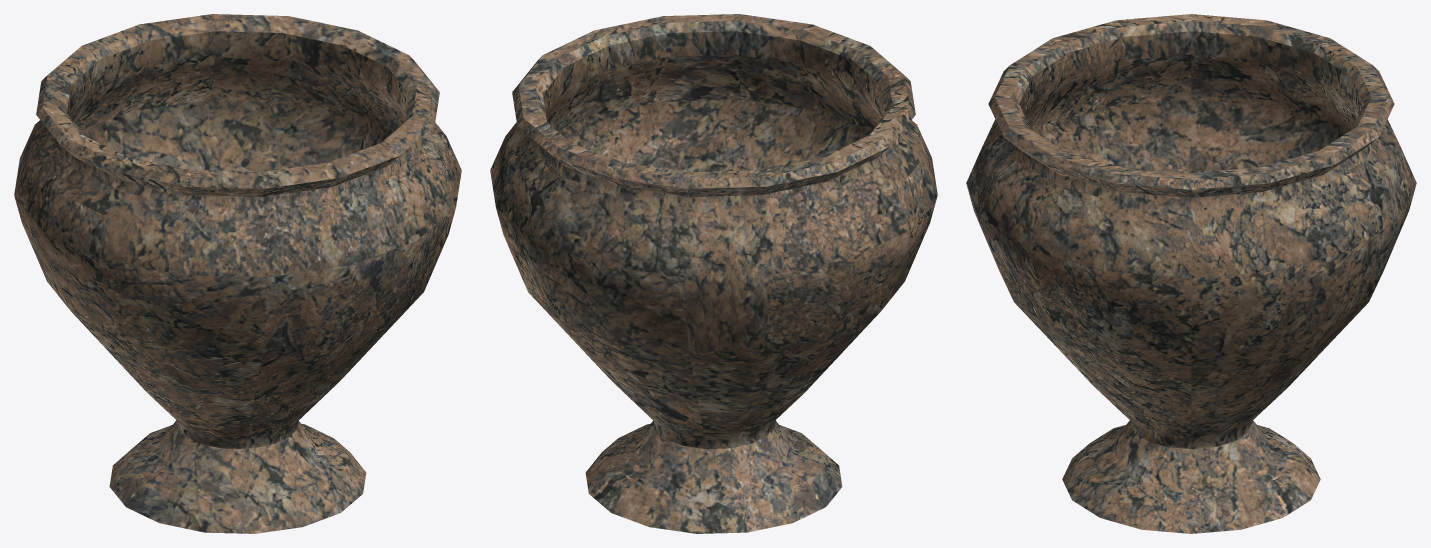
File: Vessel05.fbx
3 renders of one model, left to right at view 1: azimuth 30°, elevation 25°; view 2: azimuth 150°, elevation 25°; view 3: azimuth 270°, elevation 25°, orthographic.
Visible parts, largest first — view 1: Vessel05; view 2: Vessel05; view 3: Vessel05.
Part boxes in pixels (<box>): Vessel05: <box>14,14,461,533</box>; Vessel05: <box>490,14,937,533</box>; Vessel05: <box>966,14,1416,533</box>.
Size of the model in its own units: 32.15 by 30.1 by 32.15.
